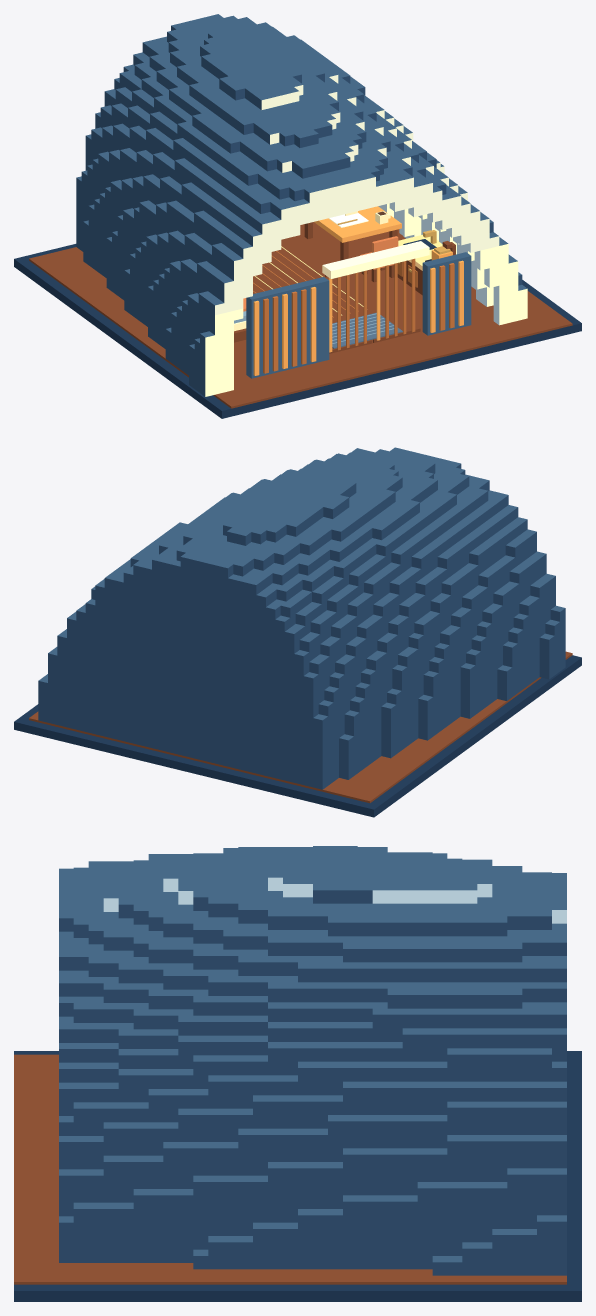
File: plot.glb
The picture shows the model from 3 angles, top to bottom: view 1: azimuth 30°, elevation 25°; view 2: azimuth 150°, elevation 25°; view 3: azimuth 270°, elevation 25°; orthographic projection. The views are drawn at different scales.
Visible parts, largest first — view 1: vault, floor, foundation, facade_flutes, front_left, front_right, door_panel_R, porch_lintel, door_panel_L, tabletop, entry_mat, guest_chair; view 2: vault, foundation, floor; view 3: vault, floor, foundation.
Part boxes in pixels (<box>): vault: <box>76,14,527,396</box>; floor: <box>29,222,572,408</box>; foundation: <box>14,244,581,418</box>; facade_flutes: <box>253,260,463,375</box>; front_left: <box>246,277,329,378</box>; front_right: <box>422,252,471,335</box>; door_panel_R: <box>373,258,420,342</box>; porch_lintel: <box>322,241,429,278</box>; door_panel_L: <box>325,270,372,353</box>; tabletop: <box>314,206,401,242</box>; entry_mat: <box>332,312,402,348</box>; guest_chair: <box>359,236,398,282</box>; vault: <box>38,447,565,789</box>; foundation: <box>14,655,581,817</box>; floor: <box>29,651,572,803</box>; vault: <box>59,846,566,1275</box>; floor: <box>14,1054,566,1284</box>; foundation: <box>14,1051,581,1301</box>.
Size of the model in its own units: 9.5 by 5.5 by 9.5.
4 materials, 4 textured.
